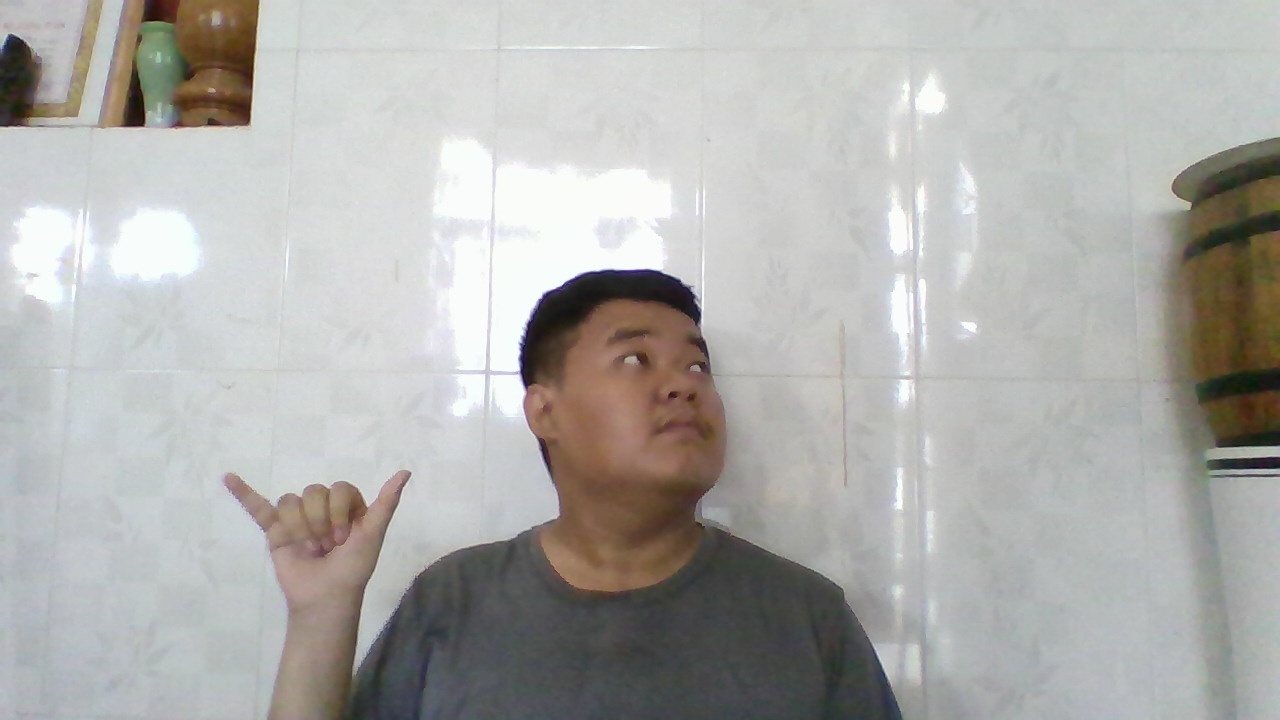Y: (212, 459, 417, 615)
